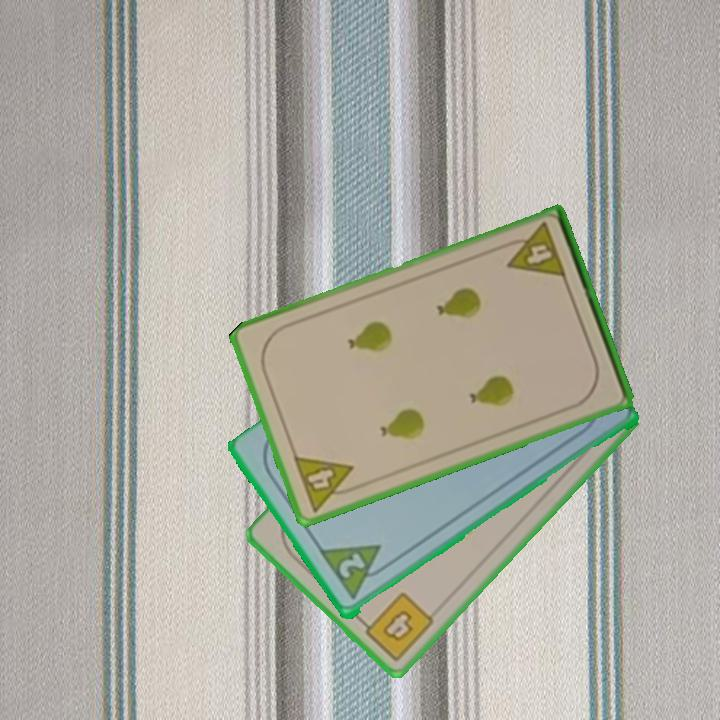2p: (335, 549, 369, 582)
4b: (355, 589, 437, 665)
4p: (289, 452, 363, 515), (498, 219, 569, 282)
